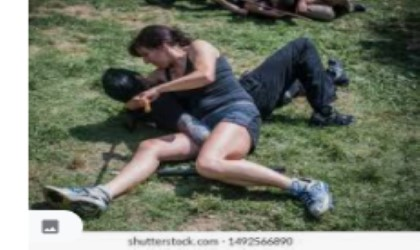baston_v: (142, 99, 155, 114)
